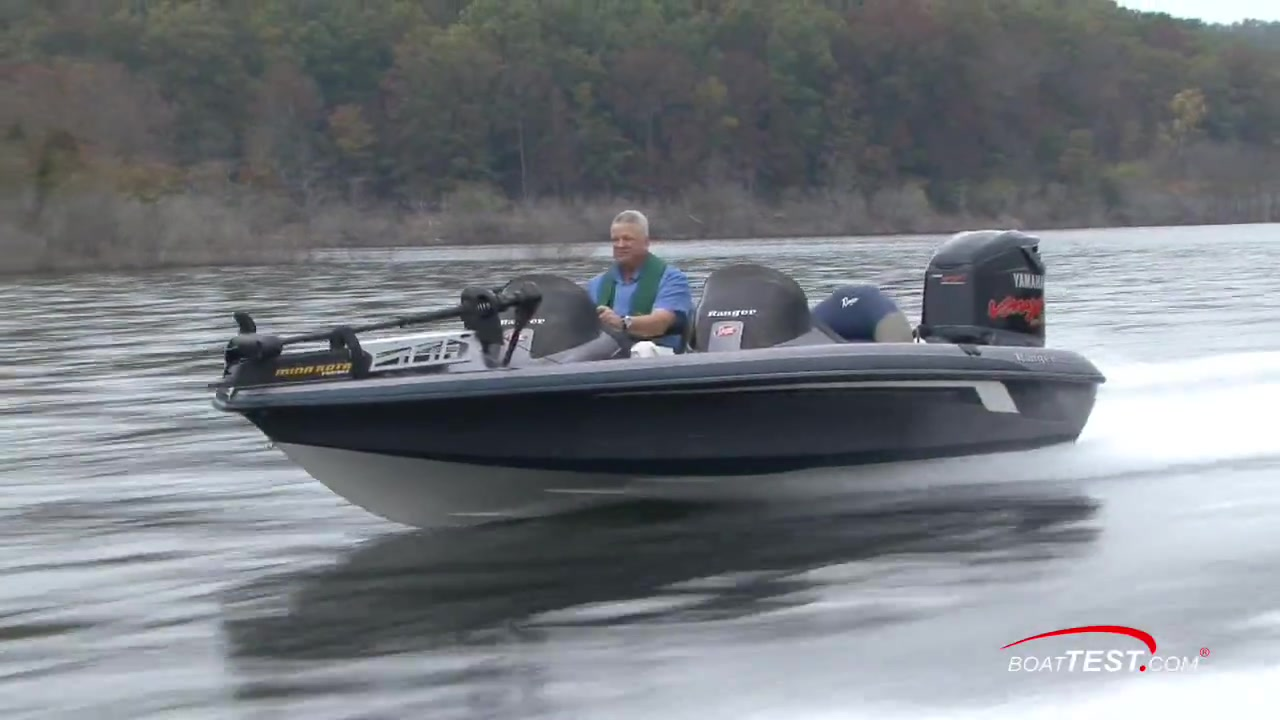boat: (195, 228, 1104, 542)
